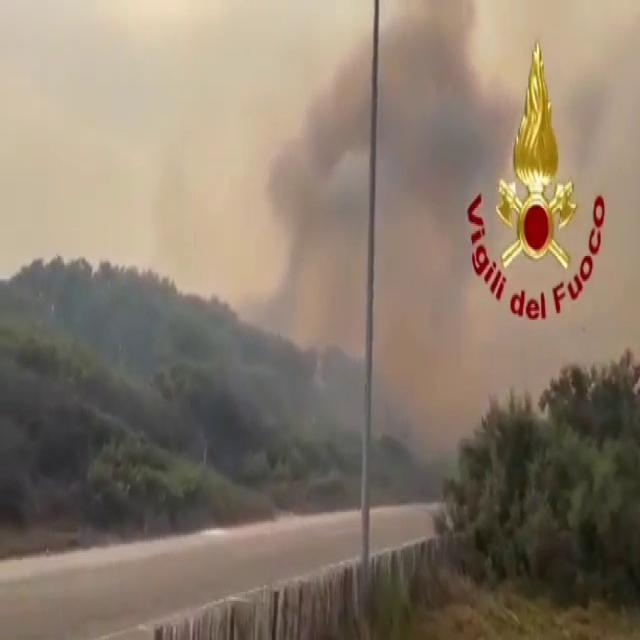Smoke: (229, 1, 640, 446)
